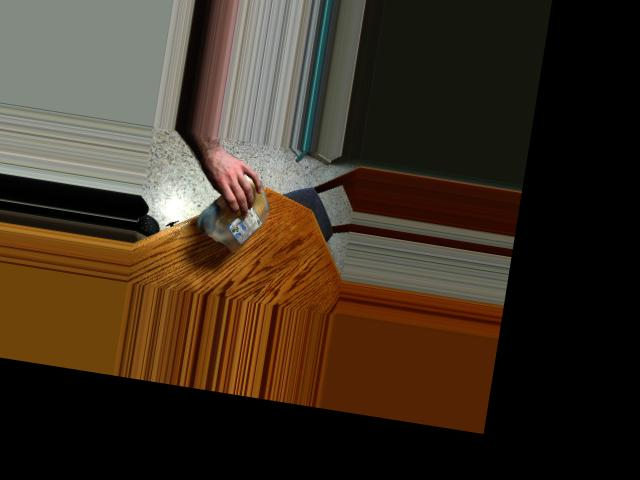cheese: (202, 165, 280, 259)
